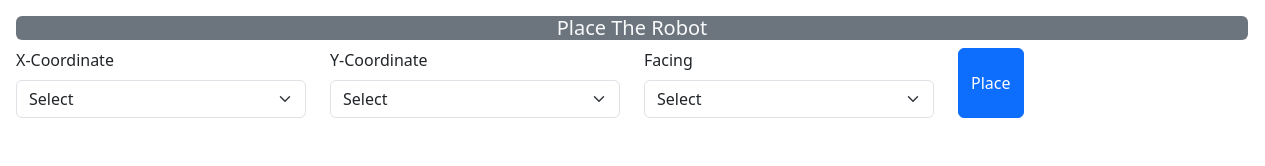
Test: facing should not be blank
The width and height of the screenshot is (1265, 166).
Step 1. Select "2" in the dropdown with test id "xCoord" → [161, 99], box [16, 80, 306, 118]
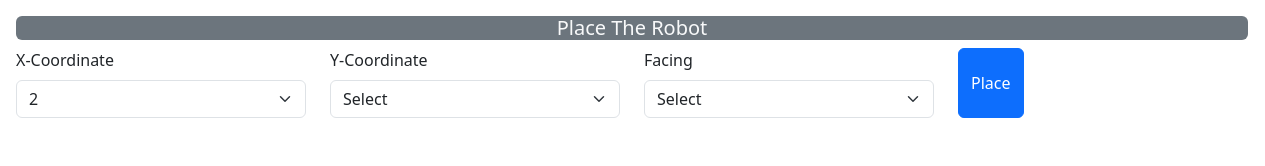
Step 2. Select "2" in the dropdown with test id "yCoord" → [475, 99], box [330, 80, 620, 118]
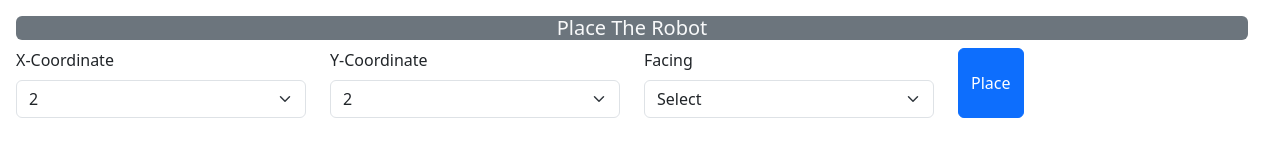
Step 3. Select "Select" in the dropdown with test id "facing" → [789, 99], box [644, 80, 934, 118]
Step 4. Click the button "Place" → [991, 83], box [958, 48, 1024, 118]
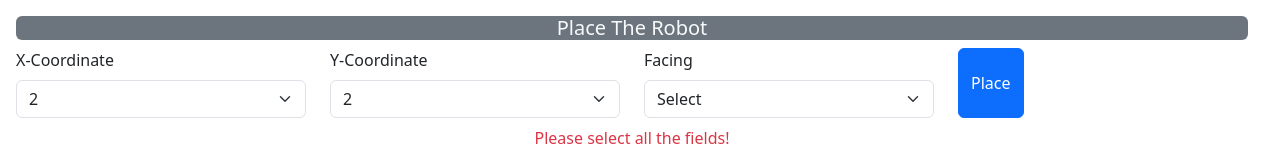
Result: the text "Please select all the fields!" is shown at [534, 127, 730, 149]
